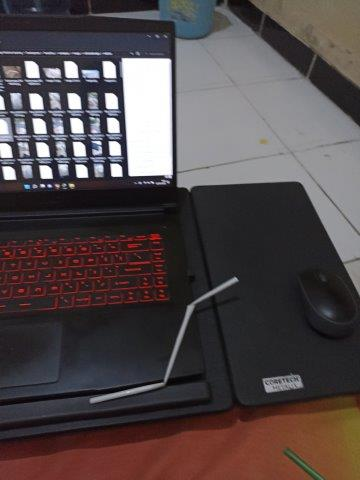sedotan: (92, 279, 237, 402)
